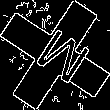M_SW: (22, 21, 88, 89)
